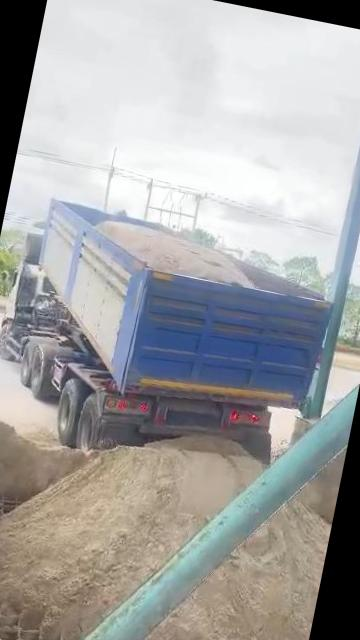sand: (0, 437, 259, 640), (149, 500, 332, 640), (98, 221, 253, 287), (0, 398, 85, 499), (300, 448, 347, 523)
